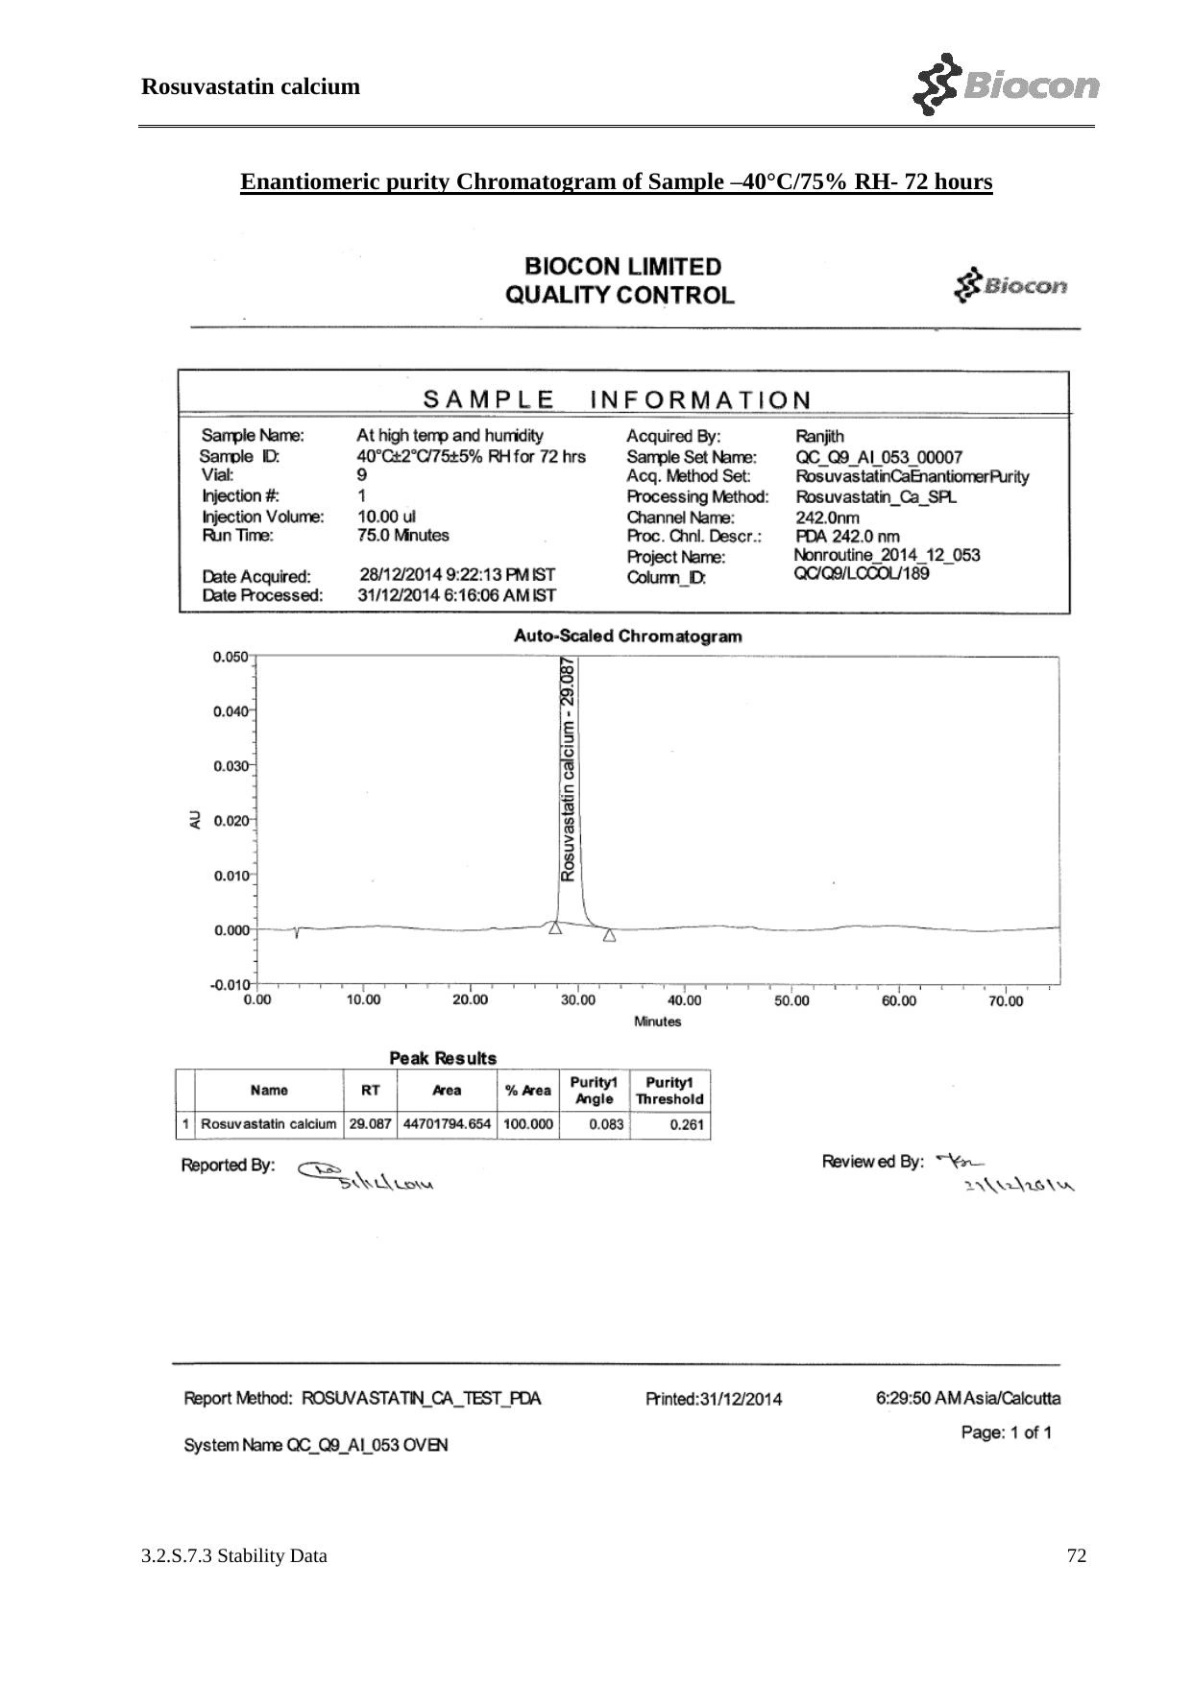full_lined: (173, 1066, 712, 1141)
partial_lined_merged_cells: (175, 367, 1075, 616)
